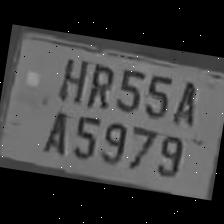5: (110, 62, 148, 113), (66, 108, 102, 160), (139, 66, 174, 118)
7: (123, 120, 157, 172)
9: (95, 111, 129, 166), (151, 127, 186, 178)
A: (38, 102, 74, 157), (169, 72, 203, 126)
H: (52, 49, 90, 103)
R: (82, 57, 116, 108)
